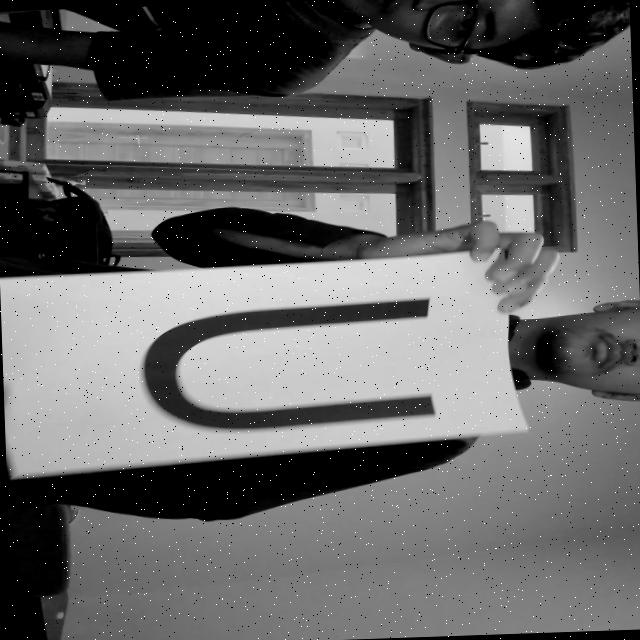u: (126, 292, 447, 443)
